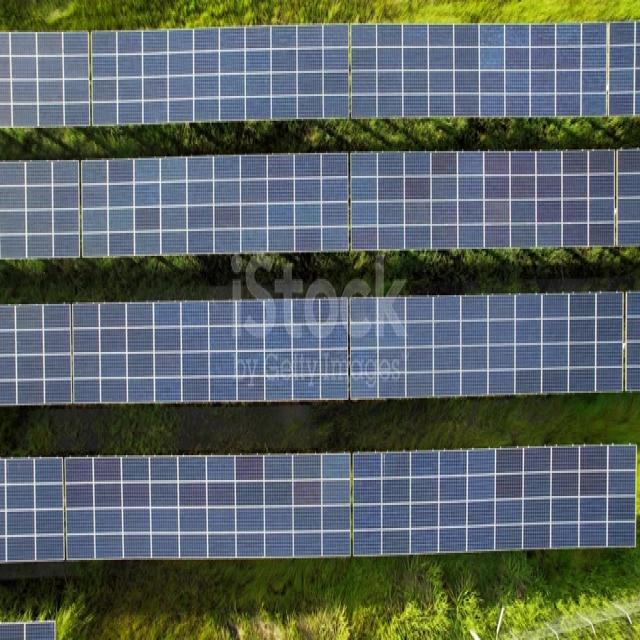solar-panel: (1, 296, 640, 395), (1, 457, 640, 556), (2, 152, 640, 248), (1, 24, 638, 117), (3, 619, 56, 640)
